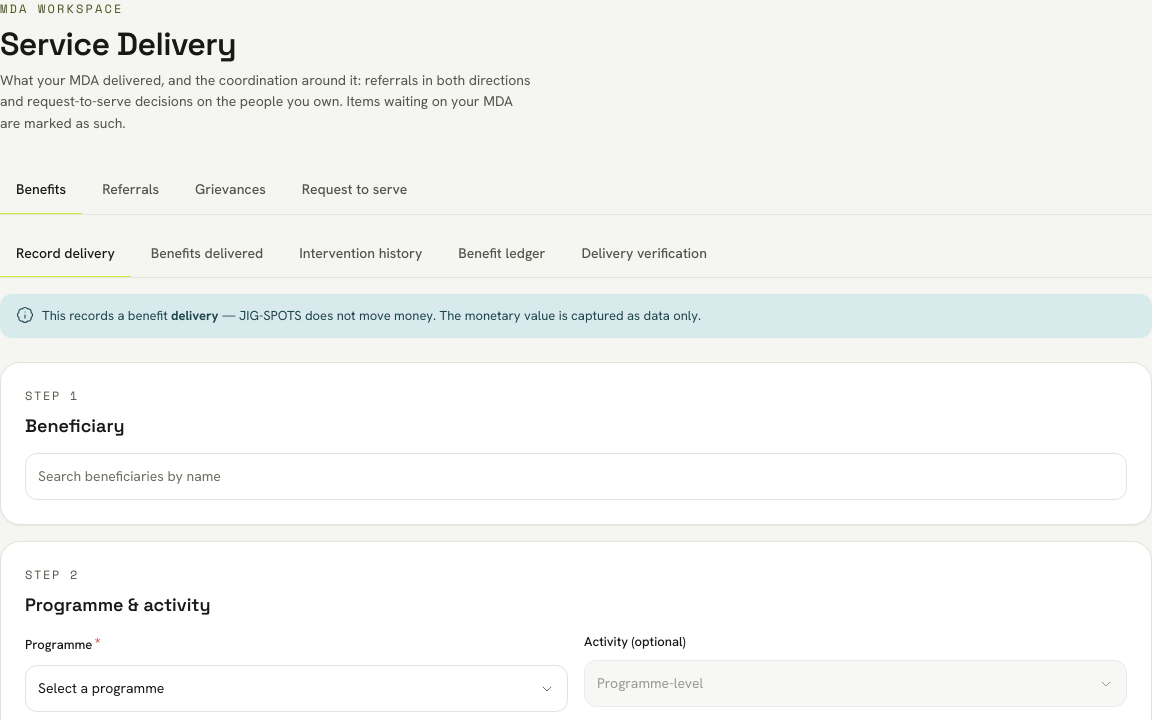
Scenario: MDA console — Service Delivery › gives the MDA a way to reach grievances
This screenshot has width=1152, height=720.
Click the tab "Grievances" at (230, 191), box [179, 167, 282, 214]
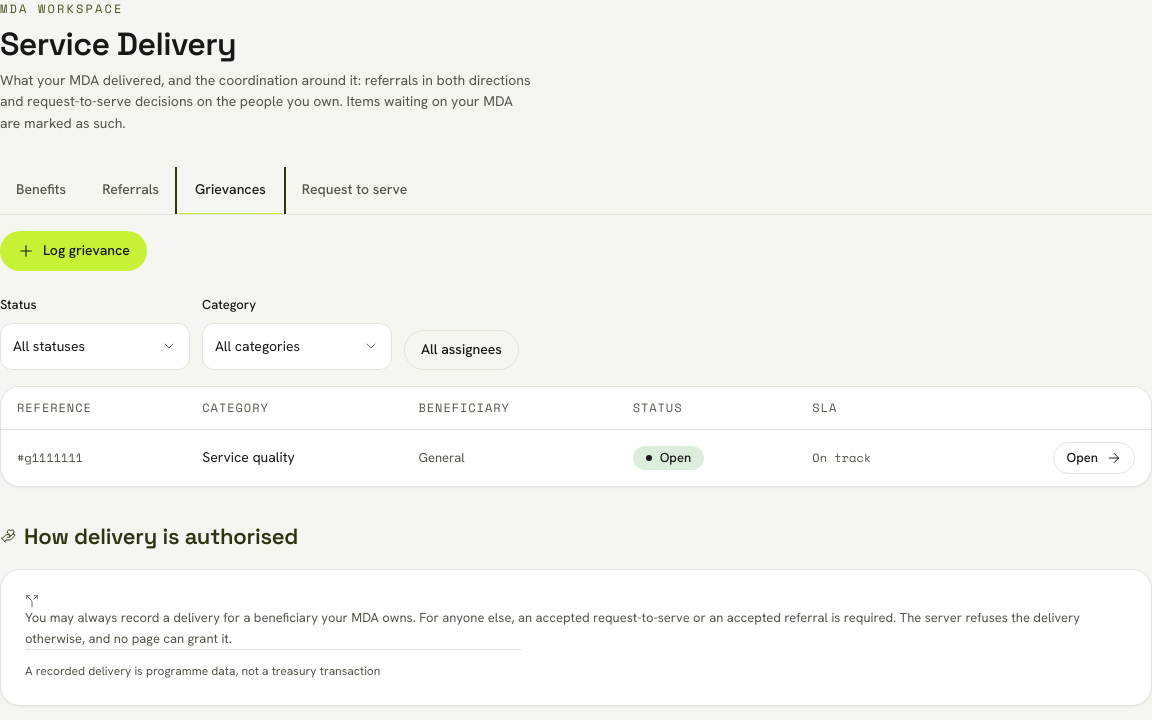
Result: the text "#g1111111" is shown at [17, 449, 83, 466]
